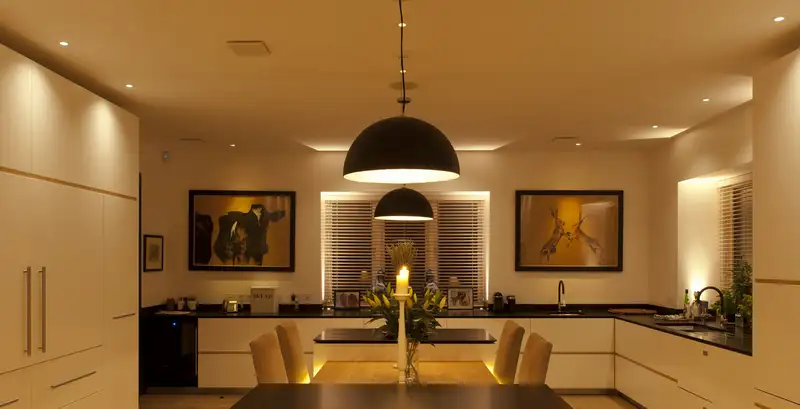lampu: (322, 91, 474, 189), (366, 188, 440, 227)
